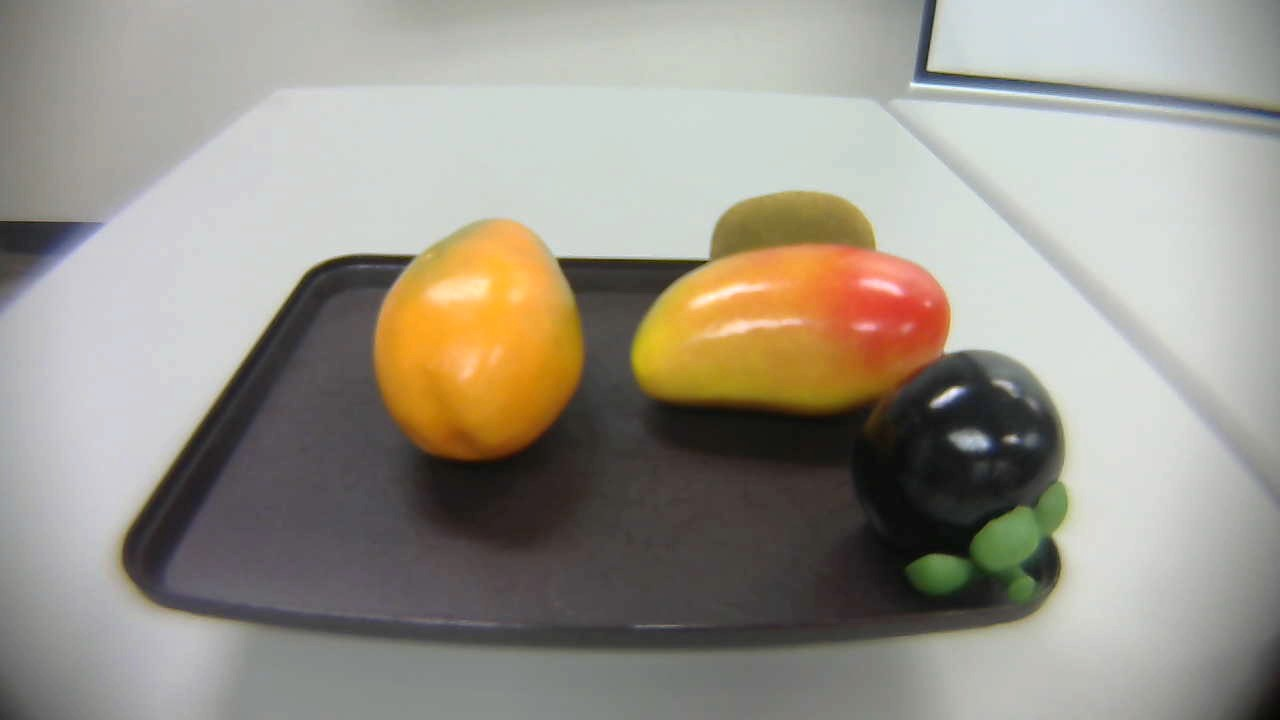kiwi fruit: (700, 188, 897, 298)
mangosteen: (853, 347, 1076, 622)
papya: (367, 216, 593, 466)
red mango: (628, 244, 955, 414)
